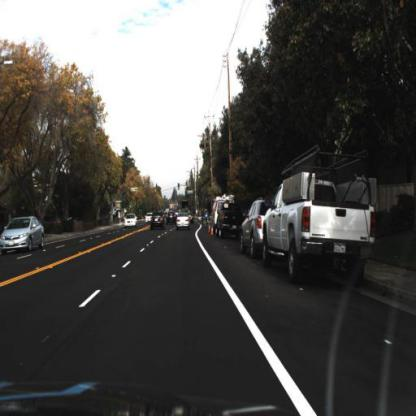biker: (204, 205, 212, 235)
car: (263, 140, 381, 287), (238, 195, 269, 261), (238, 196, 269, 261), (1, 215, 48, 256), (215, 201, 245, 243), (148, 211, 166, 236), (122, 213, 142, 234), (149, 211, 167, 232), (175, 211, 193, 231), (176, 211, 192, 232)
